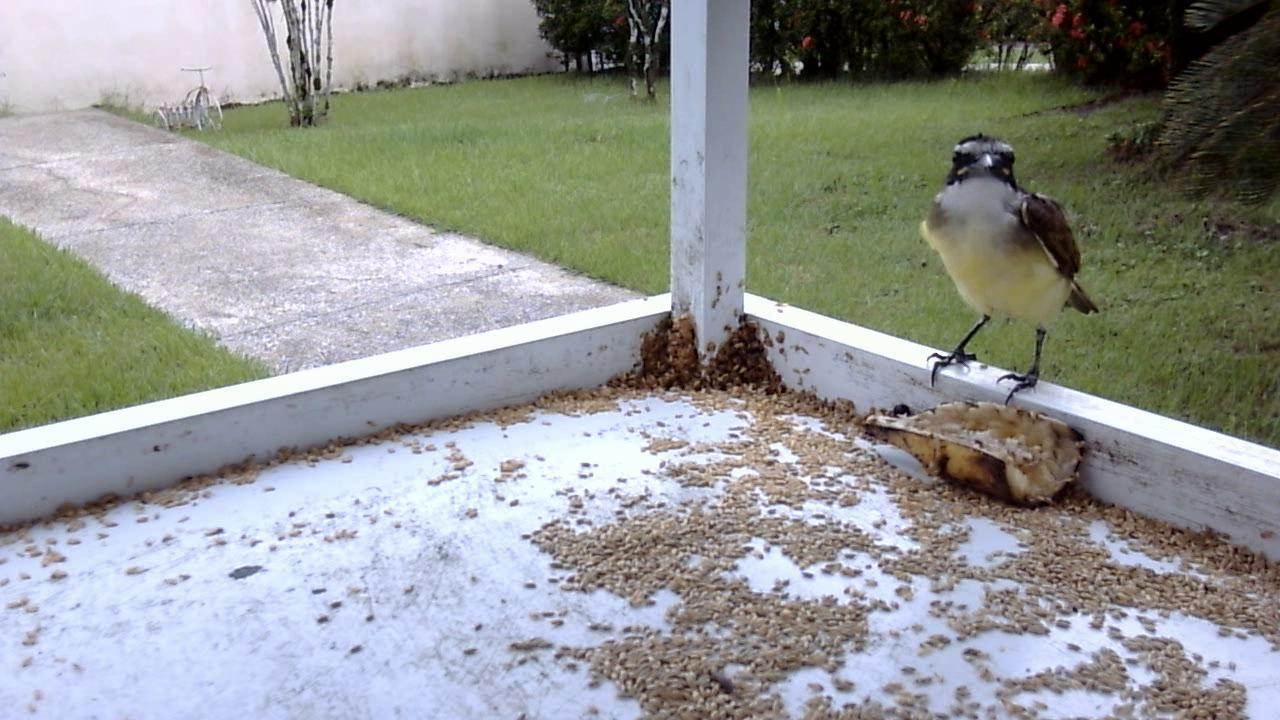bem_te_vi: (911, 132, 1101, 412)
